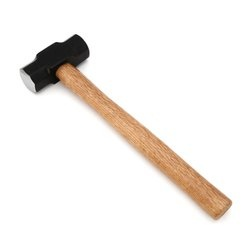hammer: (19, 33, 233, 221)
